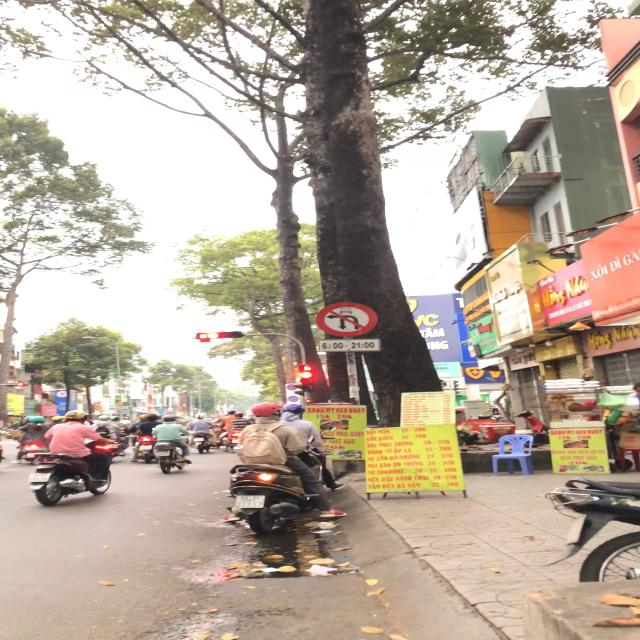Bien bao cam oto re trai va quay dau xe: (314, 301, 383, 341)
